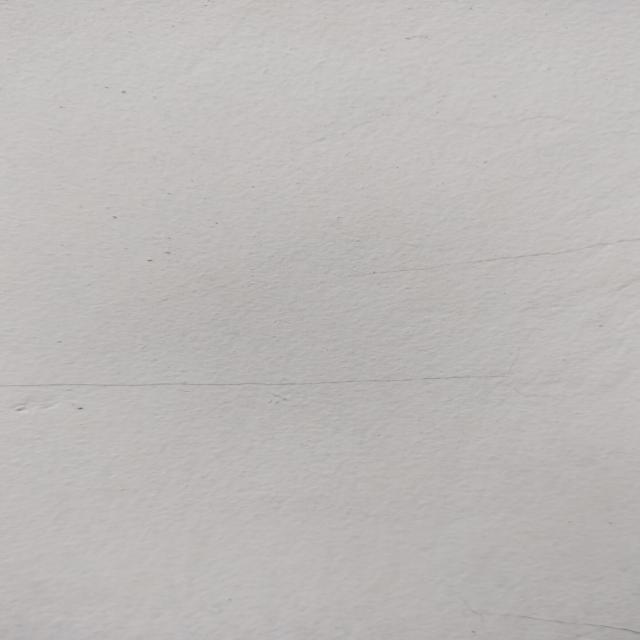Crack: (319, 237, 640, 284), (0, 370, 551, 392)
